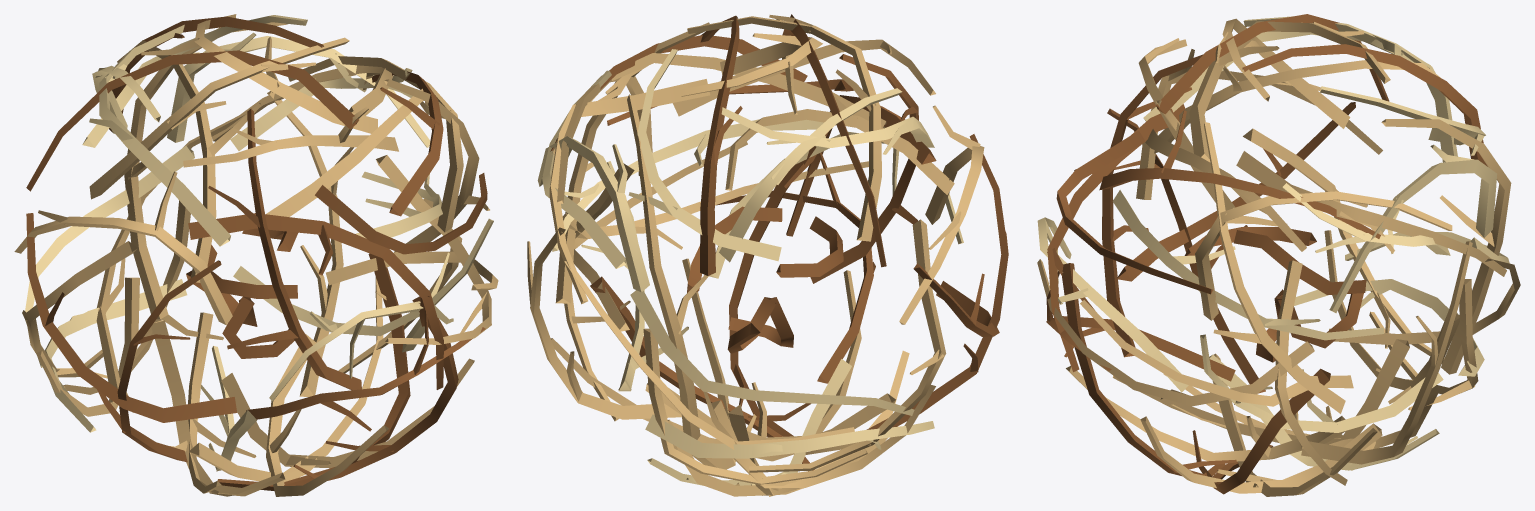
File: tumbleweed.glb
3 views of the same model, side by side, from view 1: azimuth 30°, elevation 25°; view 2: azimuth 150°, elevation 25°; view 3: azimuth 270°, elevation 25° (orthographic).
Parts seen in each view (by area): view 1: body; view 2: body; view 3: body.
Boxes of the visible parts, x1,y1,x2,y2 form: body: [14, 14, 498, 496]; body: [527, 14, 1008, 496]; body: [1037, 14, 1520, 496].
Size of the model in its own units: 1.17 by 1.17 by 1.17.
